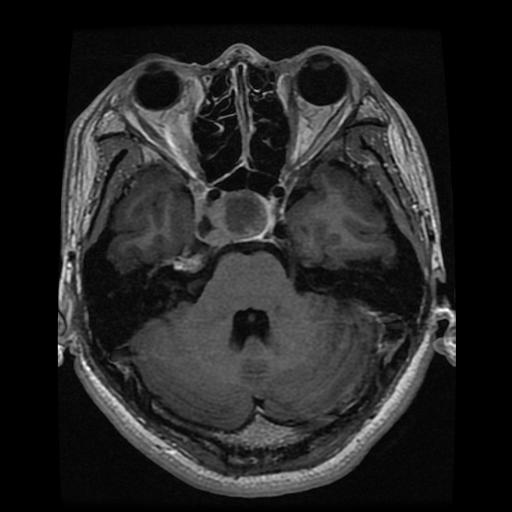Pituirity_tumour: (206, 189, 274, 244)
